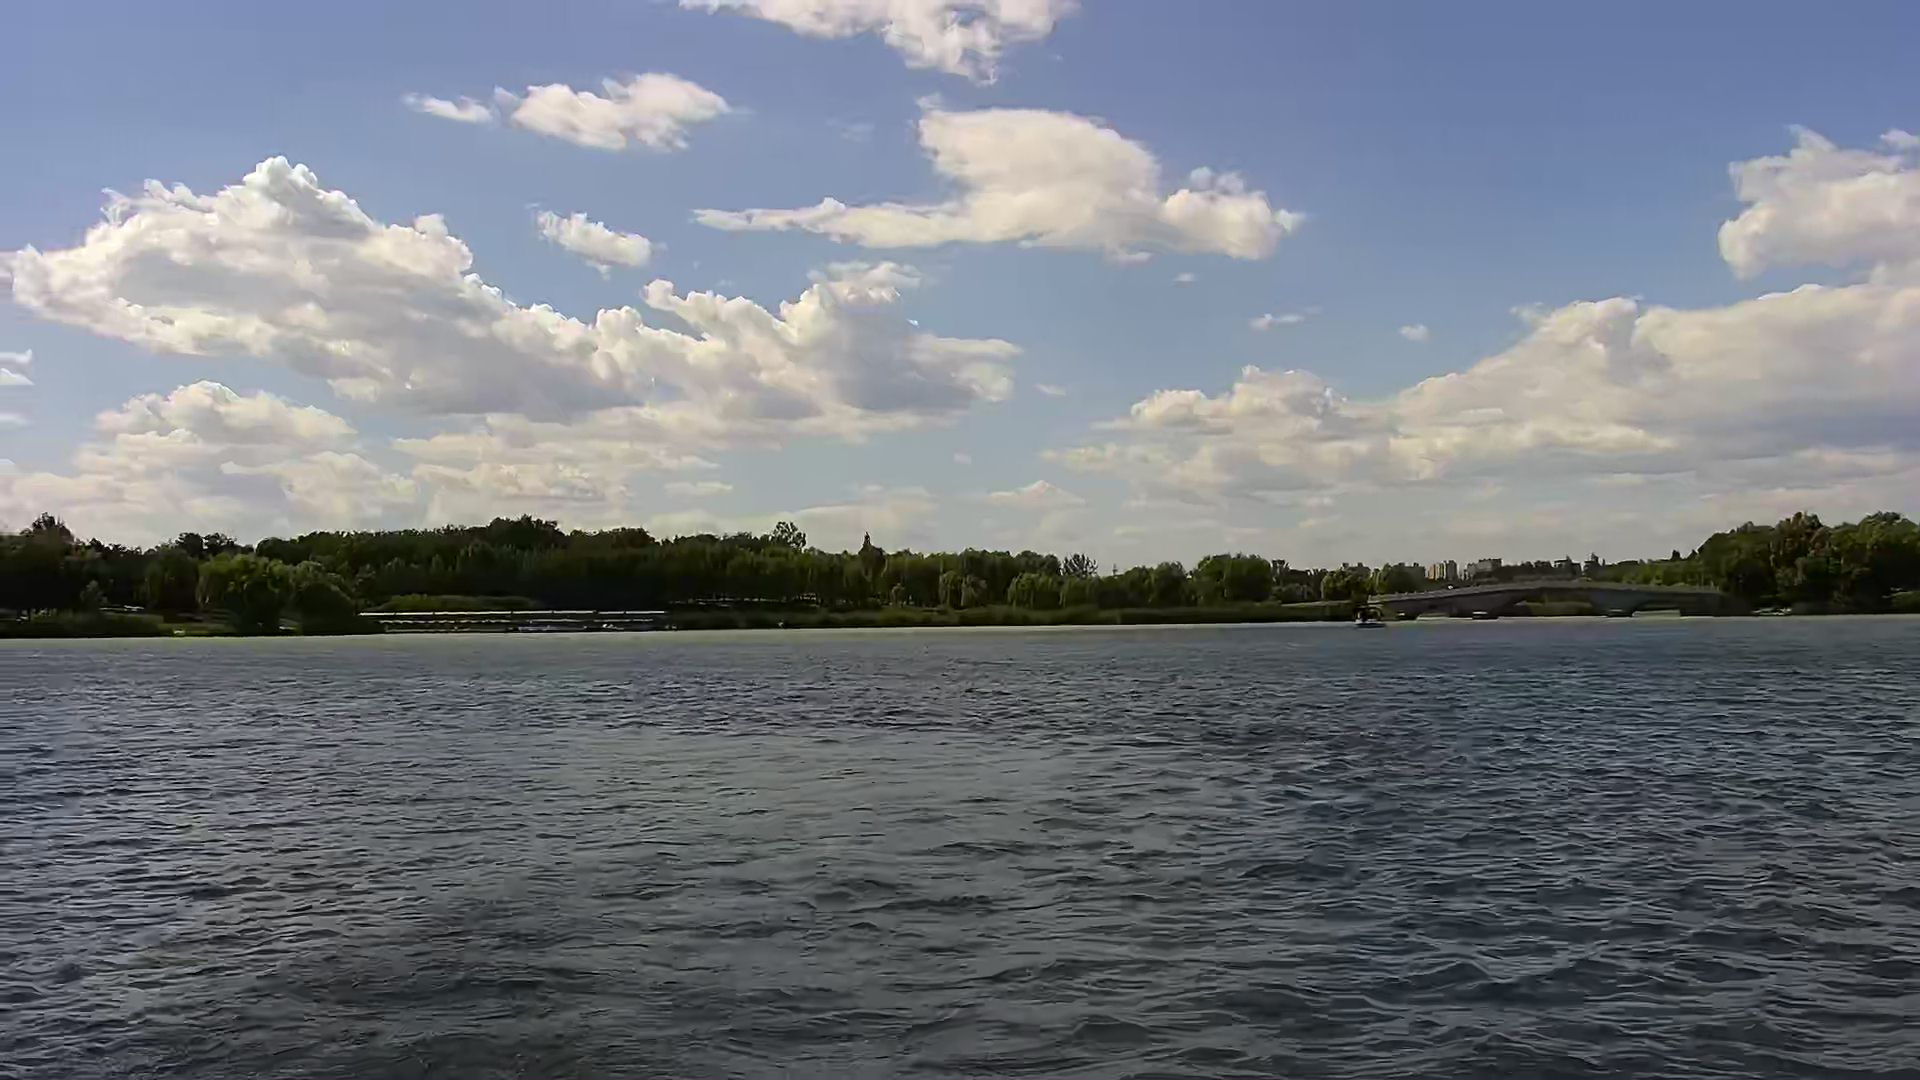boat: (1354, 607, 1386, 626)
bridge: (1375, 580, 1721, 616), (357, 607, 669, 632)
